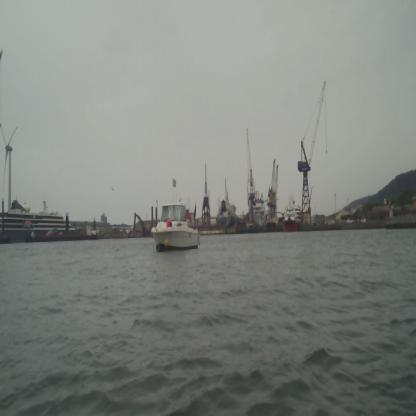Container Ship: (25, 214, 100, 242)
